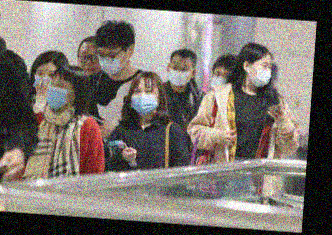with_mask: (128, 86, 159, 115), (94, 48, 126, 76), (45, 76, 69, 110), (247, 59, 272, 89), (166, 58, 189, 88), (32, 68, 54, 90), (209, 69, 228, 92)
without_mask: (75, 49, 101, 77)
